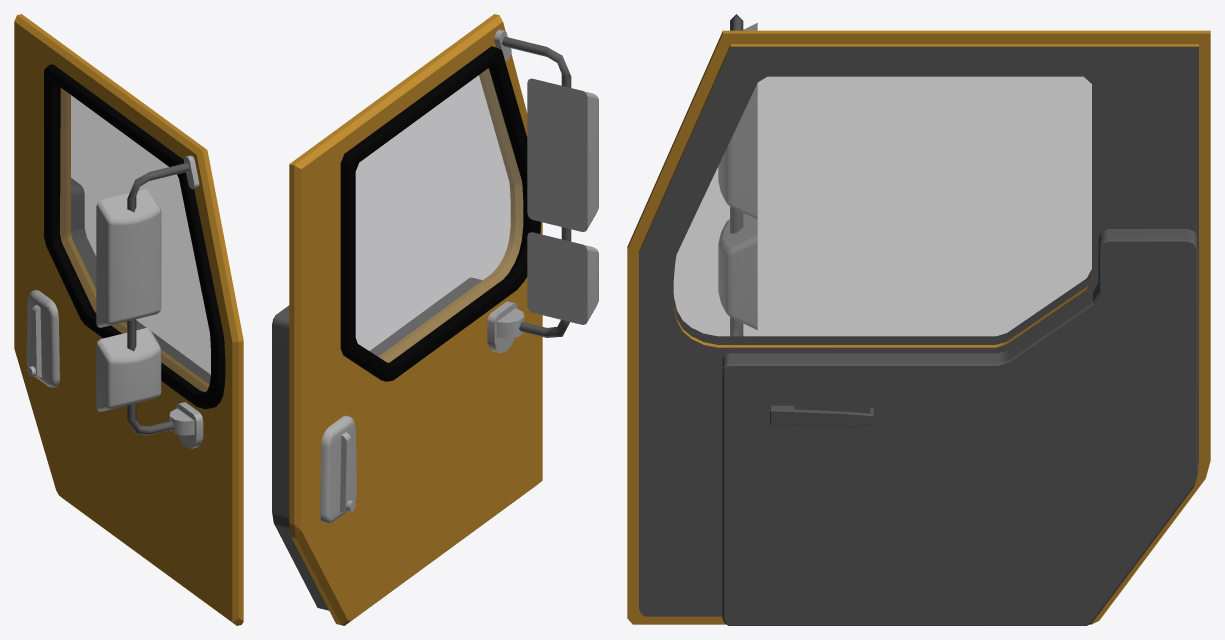
Rendered from MobileCrane_Door_02a_snaps005.fbx.
The picture shows the model from 3 angles, left to right: view 1: azimuth 30°, elevation 25°; view 2: azimuth 150°, elevation 25°; view 3: azimuth 270°, elevation 25°; orthographic projection. The views are drawn at different scales.
Visible parts, largest first — view 1: door_front_r2; view 2: door_front_r2; view 3: door_front_r2.
Part boxes in pixels (x1,y1,x2,y2): door_front_r2: (14,14,243,625); door_front_r2: (272,14,598,625); door_front_r2: (627,14,1210,625).
Bounding box in the file's own units: 36.31 × 120 × 107.
